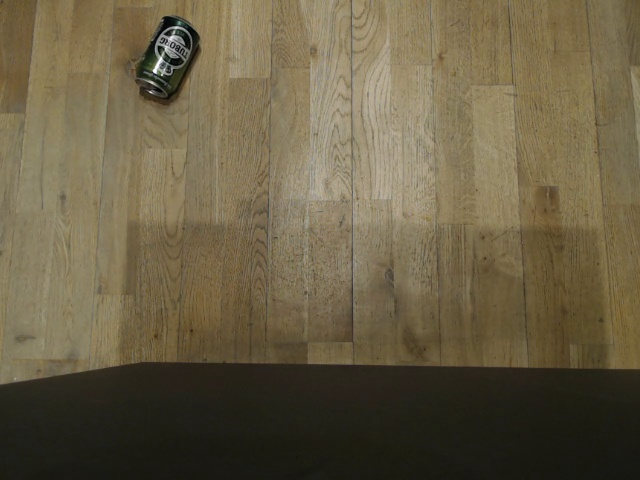beer: (131, 11, 204, 102)
